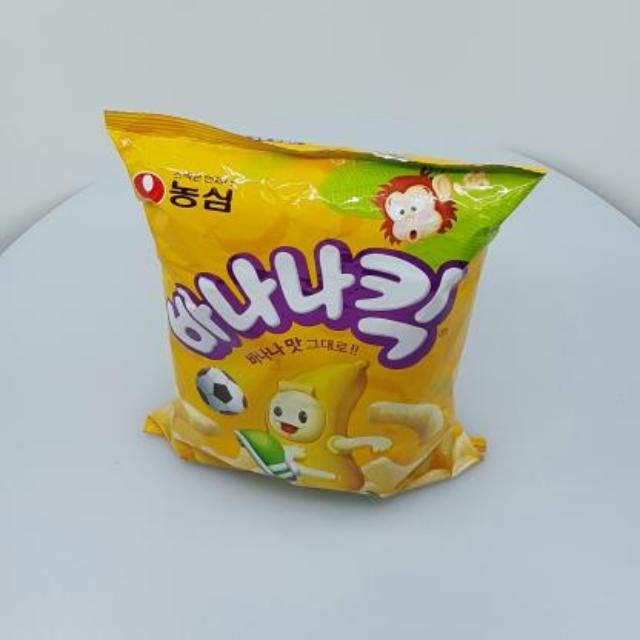snack_bag: (95, 96, 555, 512)
